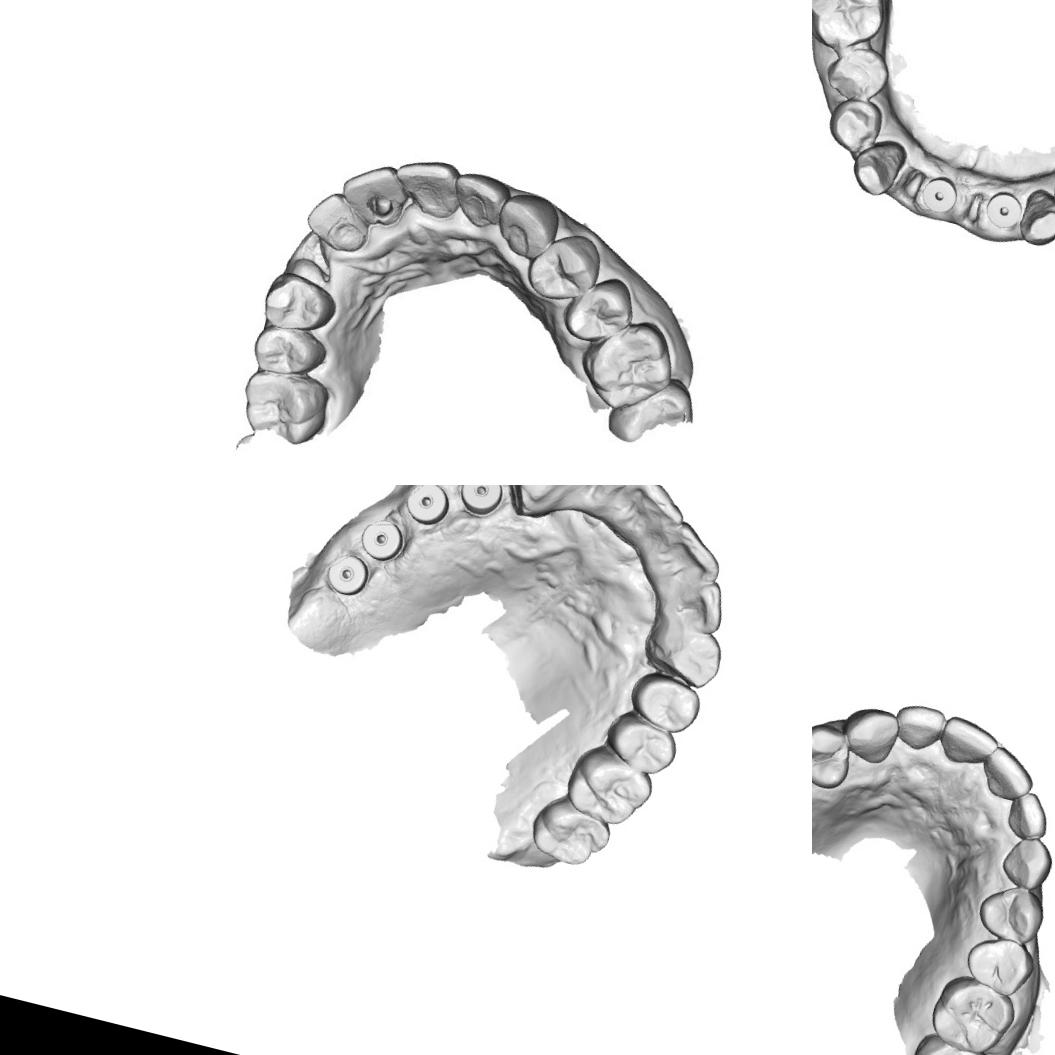canine: (651, 618, 730, 693), (492, 192, 565, 263), (834, 700, 903, 768), (846, 134, 907, 200), (996, 830, 1055, 895), (501, 485, 584, 529), (1015, 185, 1055, 251)
implant: (321, 544, 376, 600), (981, 186, 1026, 232), (917, 172, 961, 216), (359, 516, 402, 561), (402, 485, 452, 523), (457, 485, 504, 512)
incisor: (659, 518, 726, 596), (390, 154, 464, 224), (613, 485, 692, 547), (340, 162, 407, 229), (302, 188, 372, 252), (934, 712, 1002, 773), (448, 166, 510, 230), (975, 742, 1039, 804), (677, 572, 736, 639), (561, 485, 634, 534), (889, 698, 948, 754), (1002, 787, 1054, 844)
molar: (574, 310, 682, 418), (230, 361, 331, 452), (562, 742, 660, 830), (923, 969, 1021, 1055), (525, 792, 617, 876), (812, 0, 894, 59), (904, 1028, 993, 1055)
premolar: (253, 265, 342, 340), (623, 668, 709, 741), (959, 929, 1039, 1001), (604, 710, 684, 781), (528, 232, 602, 307), (820, 38, 894, 109), (972, 880, 1048, 949), (250, 323, 328, 389), (566, 280, 635, 346), (821, 92, 887, 158), (812, 716, 858, 793)
